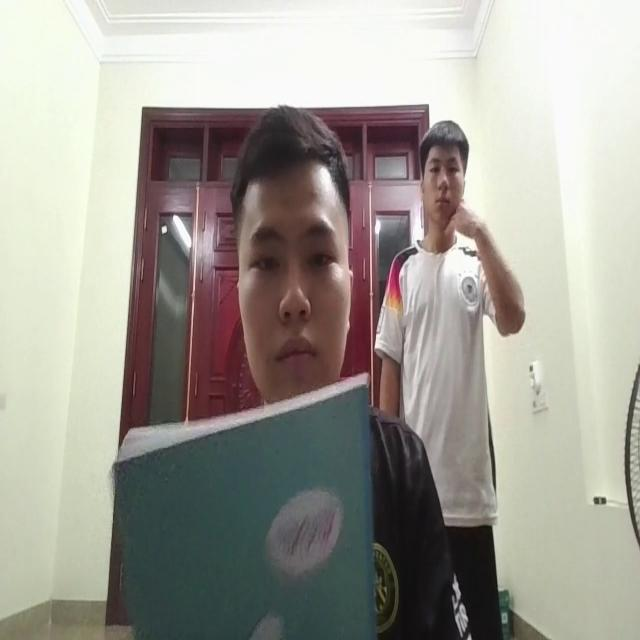book: (112, 384, 374, 640)
extra_person: (383, 126, 514, 551)
student: (230, 95, 356, 405)
